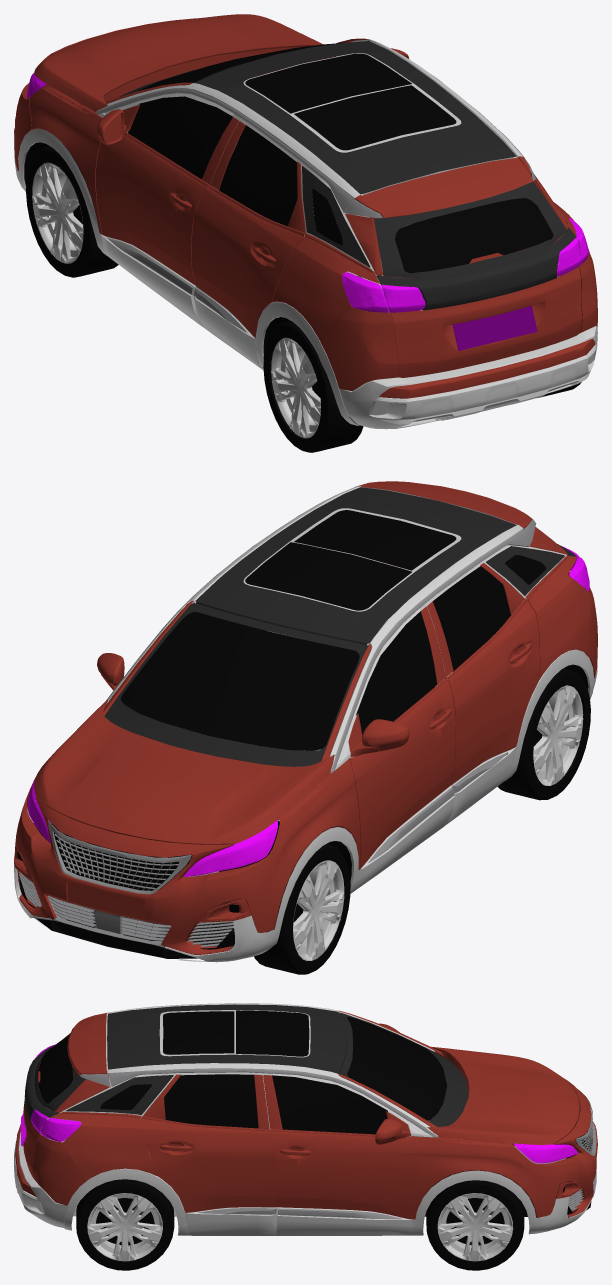
File: suv_one_light.glb
The picture shows the model from 3 angles, top to bottom: view 1: azimuth 30°, elevation 25°; view 2: azimuth 150°, elevation 25°; view 3: azimuth 270°, elevation 25°; orthographic projection. The views are drawn at different scales.
Visible parts, largest first — view 1: maincar2_suv_car, maincar2_suv_back_left, maincar2_suv_front_left, 对象002, maincar2_suv_carlight_license001, maincar2_suv_carlight_license.001, 对象004; view 2: maincar2_suv_car, maincar2_suv_front_left, maincar2_suv_back_left, 对象011; view 3: maincar2_suv_car, maincar2_suv_back_right, maincar2_suv_front_right, maincar2_suv_carlight_license.001, 对象011.
Boxes of the visible parts, x1,y1,x2,y2 form: maincar2_suv_car: (14,14,597,429); maincar2_suv_back_left: (263,320,363,452); maincar2_suv_front_left: (26,144,118,277); 对象002: (452,305,537,350); maincar2_suv_carlight_license001: (342,272,425,312); maincar2_suv_carlight_license.001: (557,218,588,276); 对象004: (342,277,424,306); maincar2_suv_car: (14,481,597,962); maincar2_suv_front_left: (254,843,350,974); maincar2_suv_back_left: (497,668,590,800); 对象011: (27,780,277,876); maincar2_suv_car: (14,1003,597,1235); maincar2_suv_back_right: (76,1179,174,1270); maincar2_suv_front_right: (426,1180,524,1270); maincar2_suv_carlight_license.001: (31,1109,81,1141); 对象011: (513,1143,577,1163).
Size of the model in its own units: 2.33 by 1.92 by 5.23.
